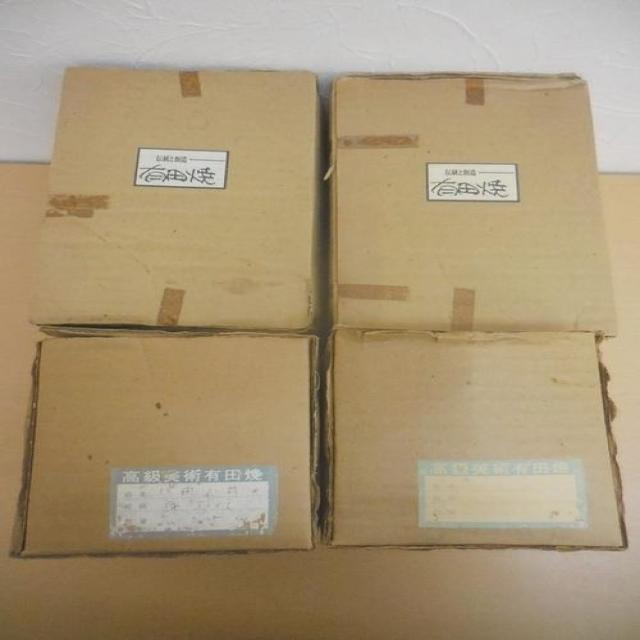box: (27, 66, 320, 339), (323, 71, 618, 336), (10, 330, 315, 557), (315, 334, 630, 549)
